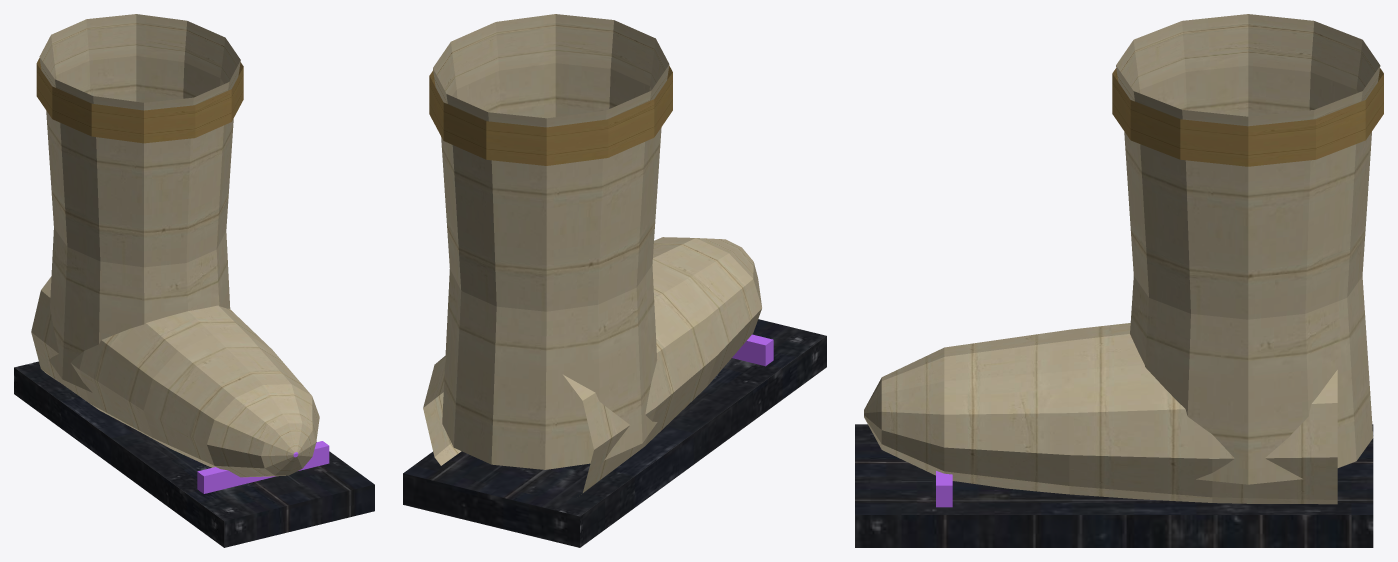
The model's file is eq_future_3_boot.glb.
3 renders of one model, left to right at view 1: azimuth 30°, elevation 25°; view 2: azimuth 150°, elevation 25°; view 3: azimuth 270°, elevation 25°, orthographic. The views are drawn at different scales.
Visible parts, largest first — view 1: eq_future_3_boot; view 2: eq_future_3_boot; view 3: eq_future_3_boot.
Part boxes in pixels (left/top/right/bottom): eq_future_3_boot: left=14, top=14, right=374, bottom=547; eq_future_3_boot: left=403, top=14, right=826, bottom=547; eq_future_3_boot: left=855, top=14, right=1383, bottom=547.
Bounding box in the file's own units: 0.1512 × 0.297 × 0.3197.
Materials: 4 (4 with a texture image).
